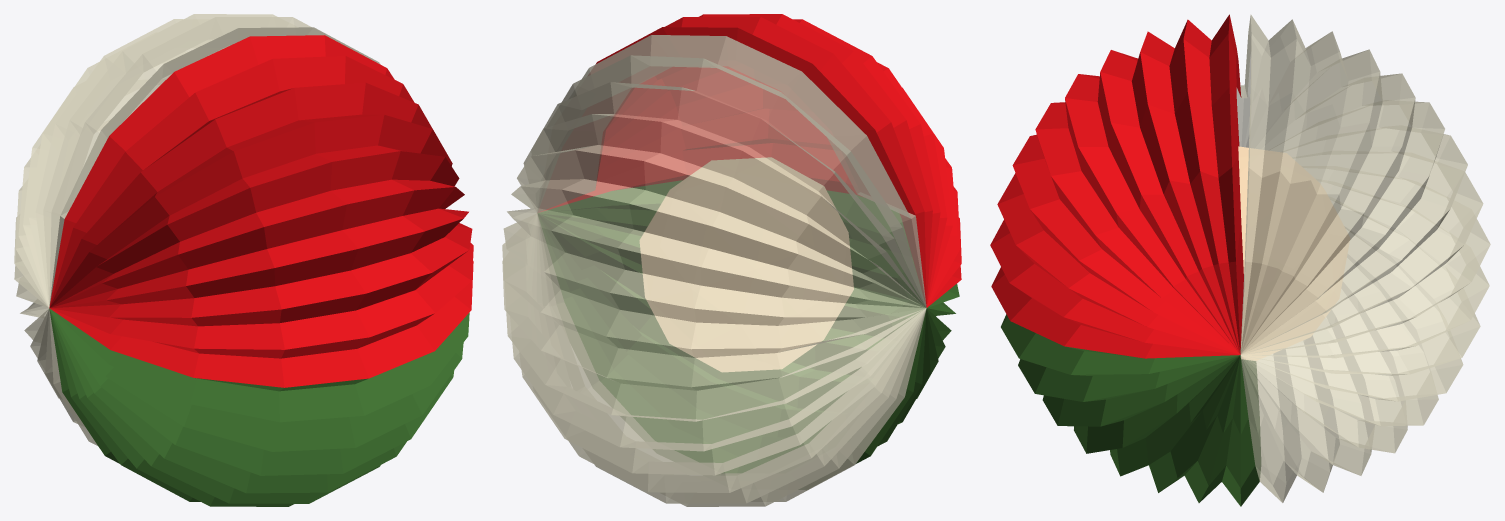
The model's file is paper_lantern.glb.
3 renders of one model, left to right at view 1: azimuth 30°, elevation 25°; view 2: azimuth 150°, elevation 25°; view 3: azimuth 270°, elevation 25°, orthographic.
Parts seen in each view (by area): view 1: lantern; view 2: lantern, bulb; view 3: lantern, bulb.
Boxes of the visible parts, <box> form: lantern: <box>14,14,473,506</box>; lantern: <box>502,14,961,506</box>; bulb: <box>639,157,853,372</box>; lantern: <box>990,14,1490,506</box>; bulb: <box>1238,146,1349,360</box>.
Size of the model in its own units: 1.78 by 2 by 2.
